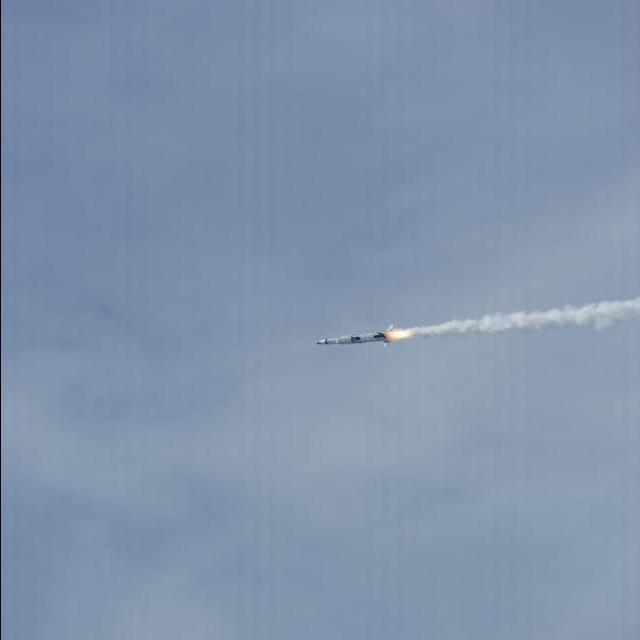missile: (316, 329, 391, 354)
